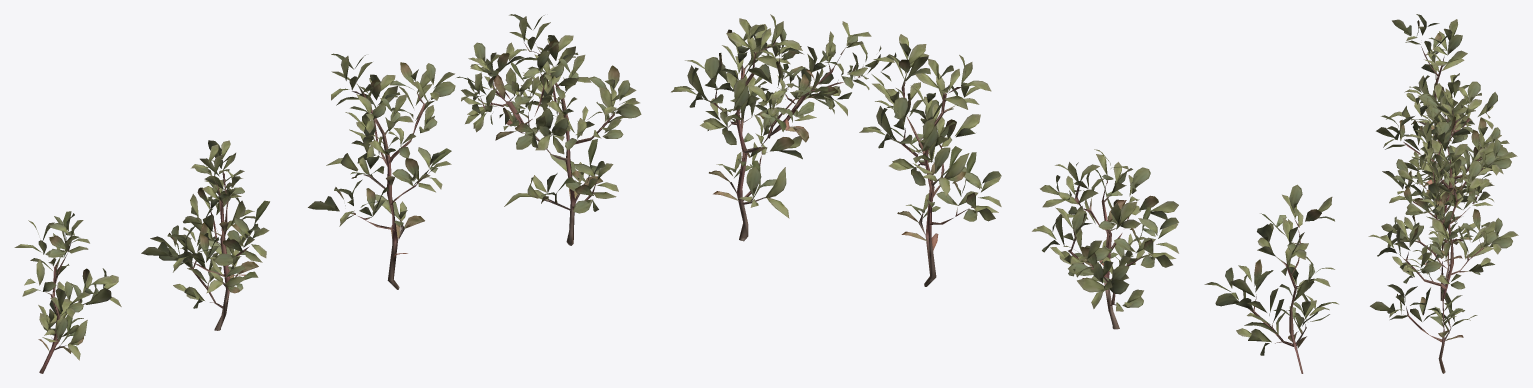
Rendered from shrub_04_lod2.glb.
The picture shows the model from 3 angles, left to right: view 1: azimuth 30°, elevation 25°; view 2: azimuth 150°, elevation 25°; view 3: azimuth 270°, elevation 25°; orthographic projection. The views are drawn at different scales.
Visible parts, largest first — view 1: shrub_04; view 2: shrub_04; view 3: shrub_04.
Part boxes in pixels (bbox=[...]): shrub_04: bbox=[14, 14, 641, 373]; shrub_04: bbox=[671, 14, 1338, 373]; shrub_04: bbox=[1368, 14, 1518, 373].
Bounding box in the file's own units: 0.5837 × 0.2192 × 0.1461.
Materials: 1 (1 with a texture image).
